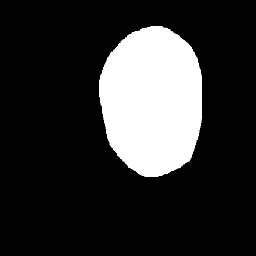mass: (101, 24, 205, 183)
